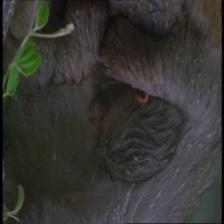monkey: (76, 79, 187, 189)
